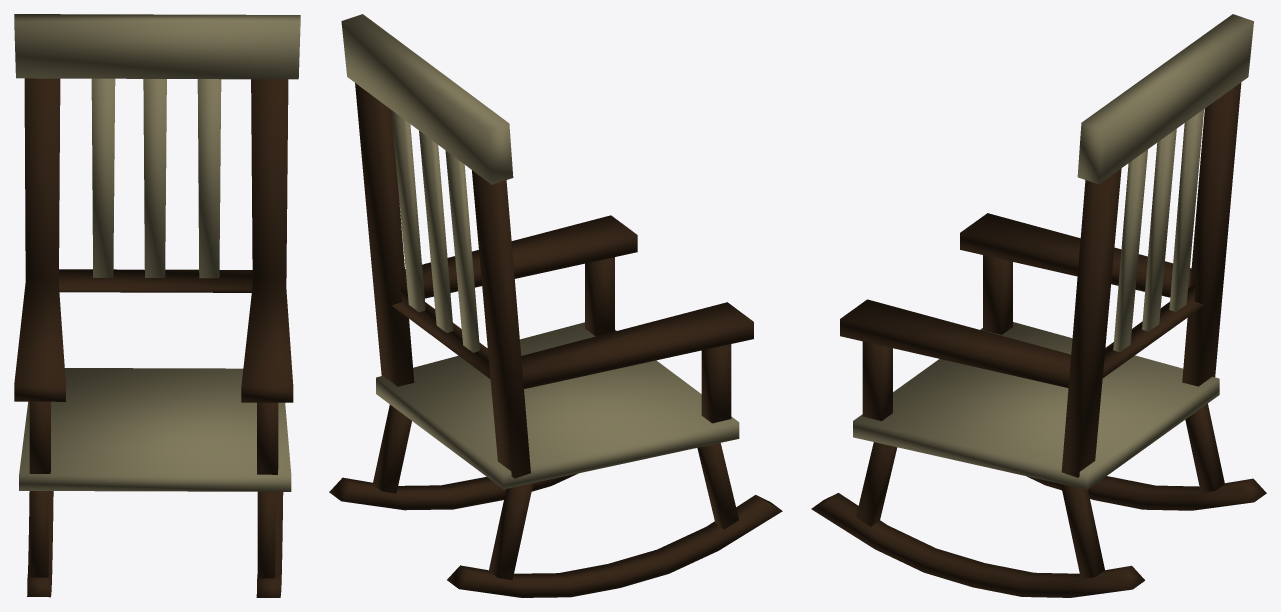
File: ChairMoving.glb
3 views of the same model, side by side, from view 1: azimuth 30°, elevation 25°; view 2: azimuth 150°, elevation 25°; view 3: azimuth 270°, elevation 25° (orthographic). The views are drawn at different scales.
Visible parts, largest first — view 1: ChairMoving.001; view 2: ChairMoving.001; view 3: ChairMoving.001.
Part boxes in pixels (bbox=[...]): ChairMoving.001: bbox=[14, 14, 300, 597]; ChairMoving.001: bbox=[329, 14, 782, 597]; ChairMoving.001: bbox=[811, 14, 1266, 597].
Size of the model in its own units: 0.6318 by 0.8299 by 0.6852.
